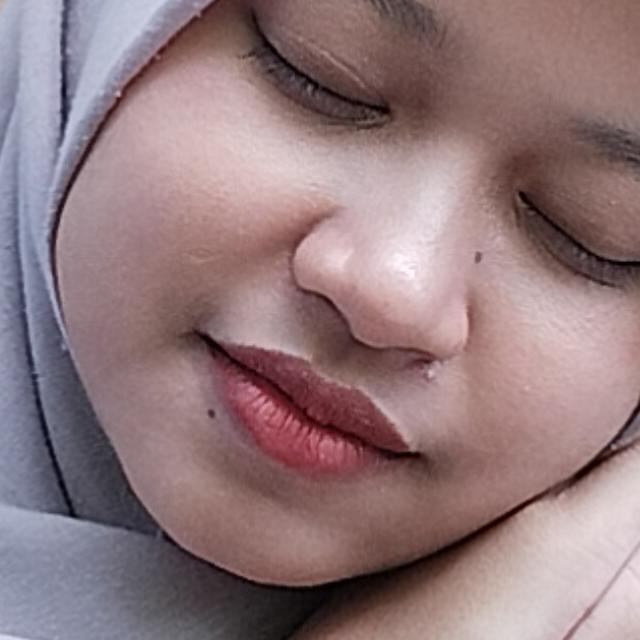tidur: (0, 128, 640, 640)
